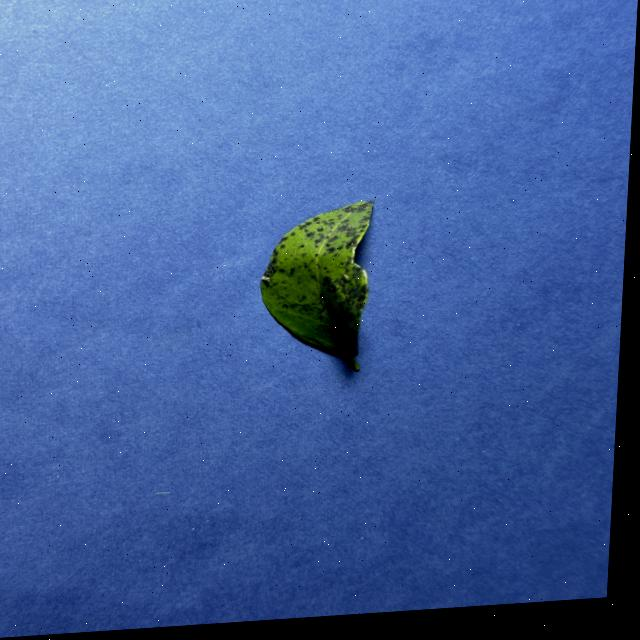sooty_mold: (261, 201, 374, 371)
